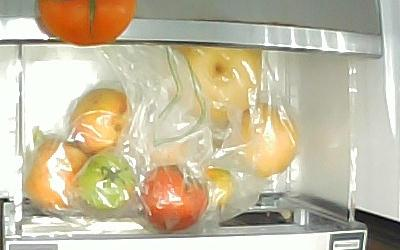peach_vinyl: (24, 137, 88, 210), (67, 86, 129, 155)
pear_vinyl: (170, 45, 260, 122), (231, 101, 299, 177)
tangerine_vinyl: (200, 169, 235, 208)
tomato_vinyl: (134, 163, 210, 232), (77, 151, 138, 208)
